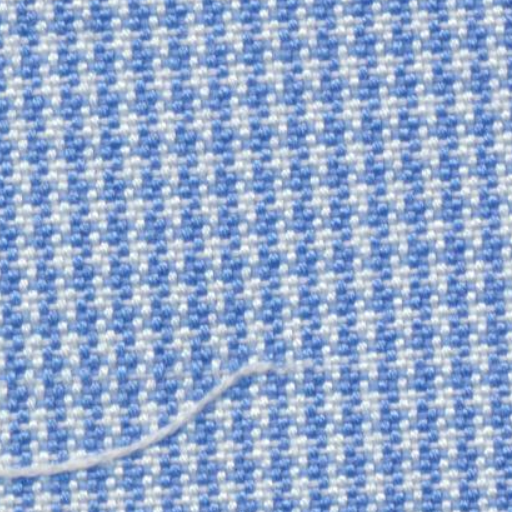DuanSha: (6, 358, 298, 486)
